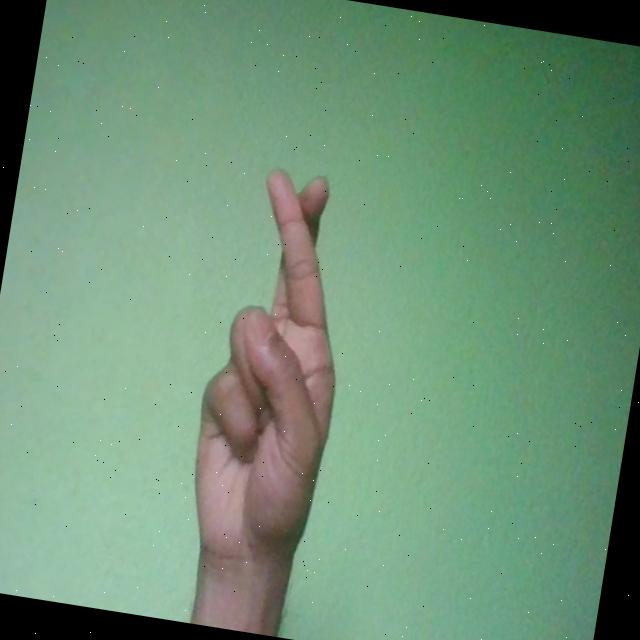Ok: (178, 162, 368, 580)
